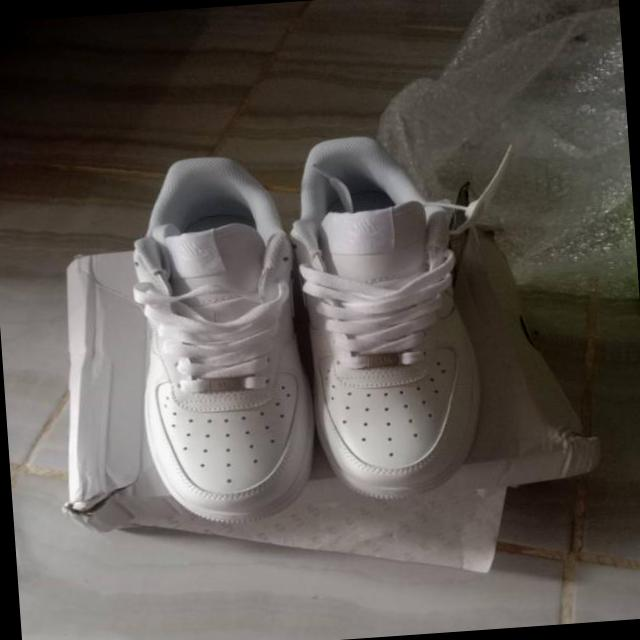nike_original_airforce: (102, 146, 317, 531), (281, 122, 483, 506)
